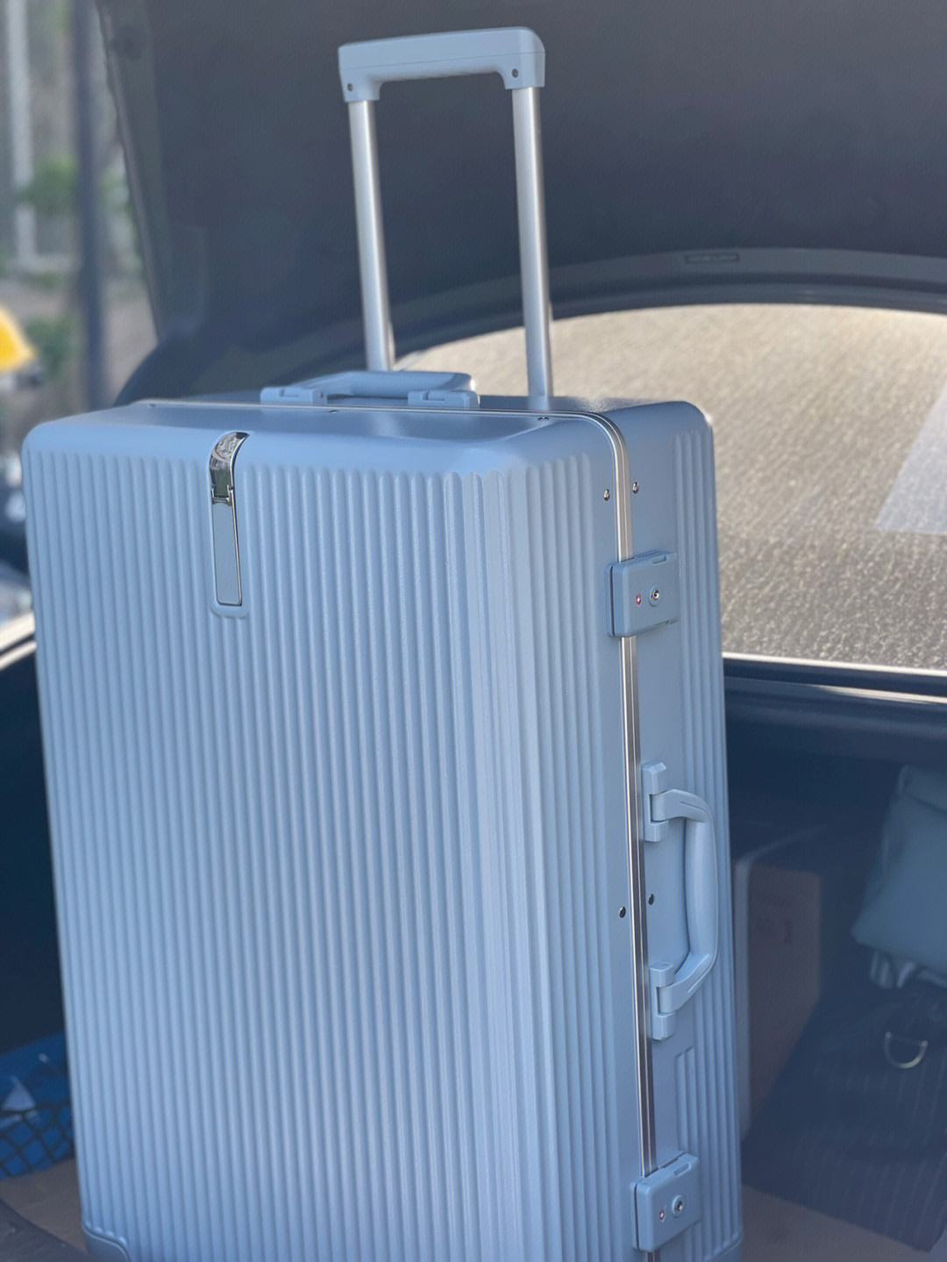box: (23, 391, 749, 1262)
handle: (639, 758, 719, 1039), (260, 368, 480, 412)
lock: (634, 1152, 702, 1251), (612, 551, 680, 637)
